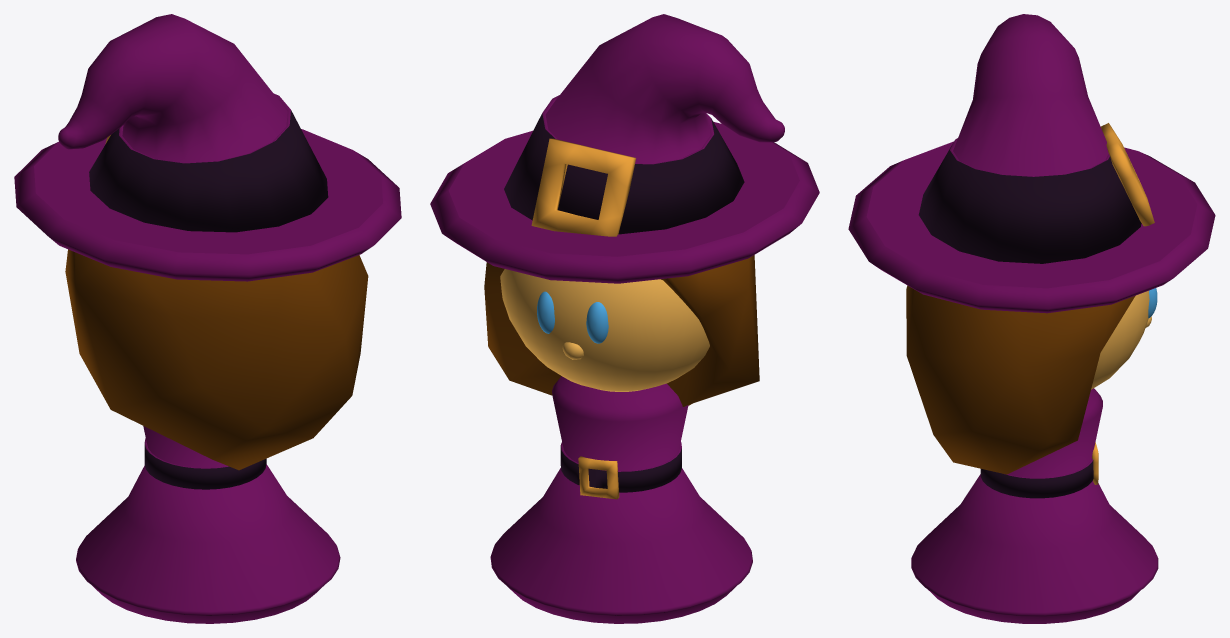
File: witch_smooth.dae
3 renders of one model, left to right at view 1: azimuth 30°, elevation 25°; view 2: azimuth 150°, elevation 25°; view 3: azimuth 270°, elevation 25°, orthographic. The views are drawn at different scales.
Parts seen in each view (by area): view 1: Hat, Hair, Dress; view 2: Hat, Dress, Head, Hair, Buckle, Sphere, BeltBuckle; view 3: Hat, Dress, Hair, Head, Buckle.
Part boxes in pixels (left/top/right/bottom): Hat: left=14, top=14, right=401, bottom=281; Hair: left=65, top=249, right=368, bottom=470; Dress: left=76, top=426, right=340, bottom=623; Hat: left=430, top=14, right=819, bottom=283; Dress: left=490, top=376, right=752, bottom=623; Head: left=500, top=269, right=709, bottom=391; Hair: left=484, top=255, right=759, bottom=406; Buckle: left=531, top=138, right=636, bottom=236; Sphere: left=537, top=291, right=608, bottom=343; BeltBuckle: left=578, top=456, right=619, bottom=499; Hat: left=848, top=14, right=1215, bottom=313; Dress: left=911, top=388, right=1158, bottom=623; Hair: left=906, top=285, right=1135, bottom=474; Head: left=1091, top=290, right=1149, bottom=389; Buckle: left=1101, top=123, right=1154, bottom=226.
Size of the model in its own units: 1.15 by 1.15 by 1.83.
